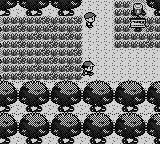captura: (2, 17, 82, 81), (115, 0, 160, 48)
leer: (130, 16, 146, 31)
main: (82, 62, 95, 75)
no-caminable: (1, 81, 160, 143), (1, 0, 82, 16), (130, 1, 146, 15), (146, 0, 160, 16)
npc: (84, 13, 97, 28)
